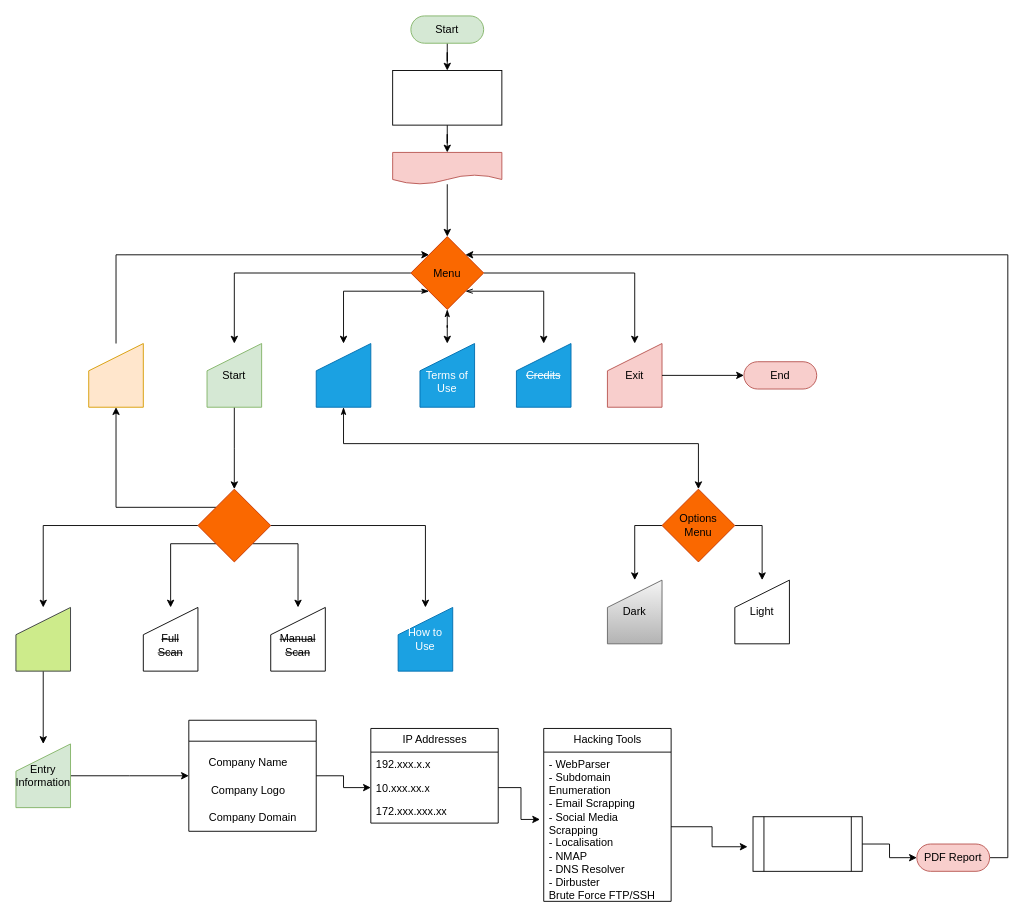
The diagram is 1031 pixels wide and 920 high, and some of its shapes have lost their labels. Each missing label, with the box of its shape:
Back: (88, 343, 143, 407)
Create a business report: (15, 607, 71, 671)
Disclaimer: (392, 152, 502, 184)
Liste: (188, 719, 316, 831)
Menu 2: (197, 488, 271, 562)
Options: (315, 343, 371, 407)
Processing: (752, 816, 862, 871)
Software Launch: (392, 70, 502, 125)
